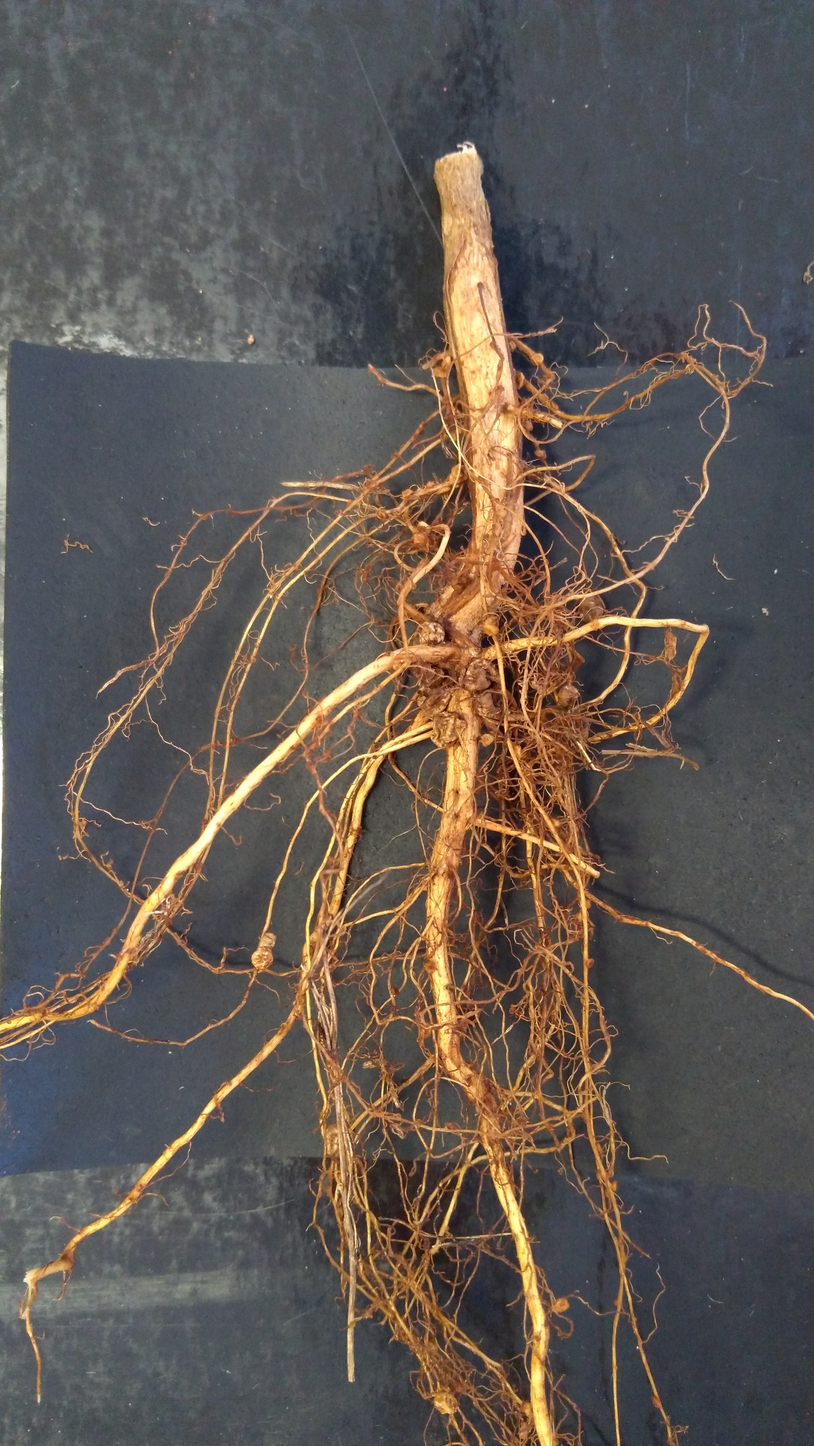nodule: (472, 685, 521, 722), (415, 684, 459, 724), (428, 710, 468, 751), (461, 657, 503, 693), (321, 1120, 354, 1160), (447, 689, 479, 720), (428, 1391, 462, 1418), (414, 620, 449, 646), (578, 593, 606, 624), (418, 667, 449, 690), (446, 462, 467, 492), (250, 946, 274, 972), (557, 682, 581, 706), (430, 356, 453, 381), (518, 1422, 541, 1444), (482, 614, 502, 638), (478, 727, 497, 751), (393, 652, 417, 671), (513, 368, 528, 396), (257, 932, 278, 952), (549, 1297, 572, 1315), (527, 350, 545, 368), (521, 1401, 537, 1420), (519, 417, 536, 434), (415, 517, 431, 535), (396, 486, 418, 498), (411, 533, 429, 547), (532, 448, 550, 461), (434, 485, 453, 497), (576, 909, 589, 923), (579, 897, 592, 911), (547, 817, 561, 830), (512, 743, 523, 759), (426, 480, 439, 489), (507, 340, 516, 352)
